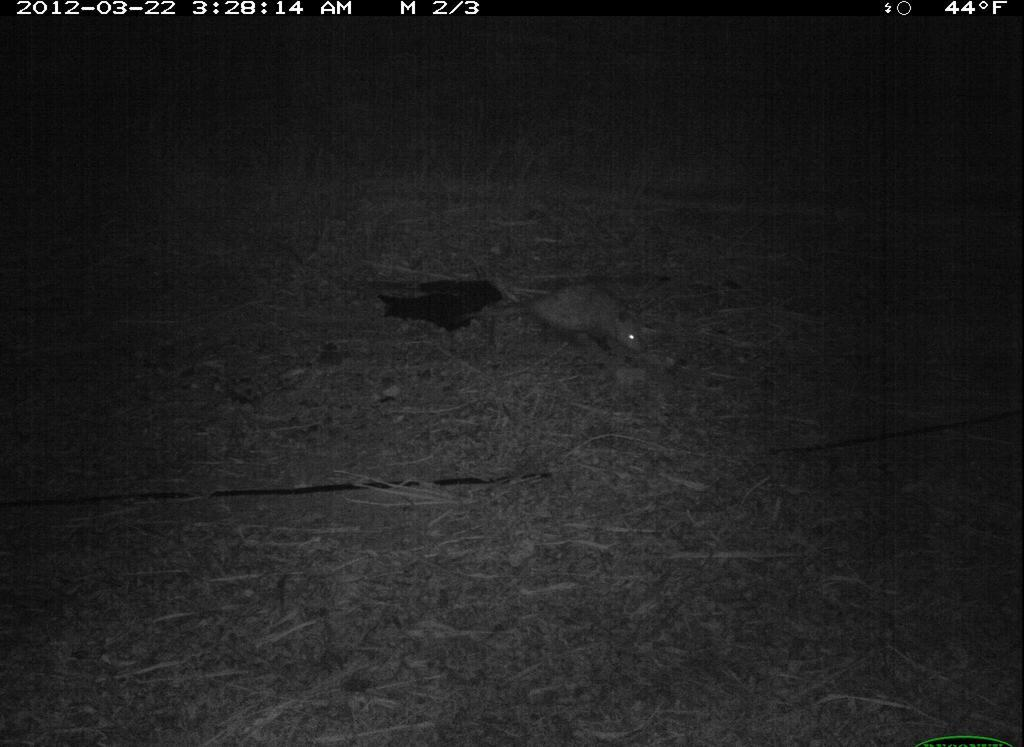opossum: (493, 269, 650, 364)
